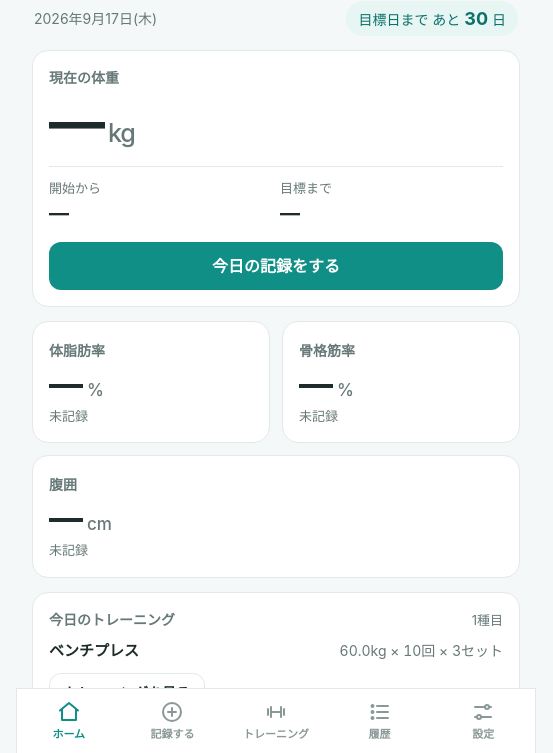
Test: App › 内容を1つも入力しないと保存できない
Step 1. Click the button "トレーニング" → click(276, 721), box [224,689,328,752]
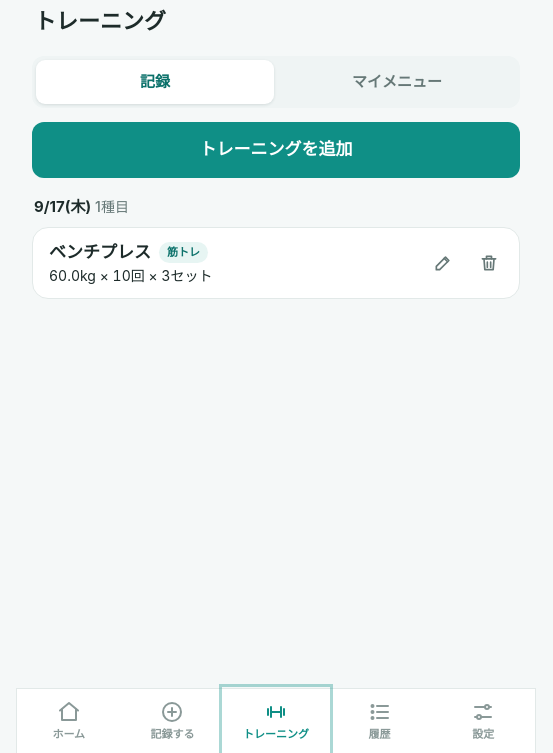
Step 2. Click the button "トレーニングを追加" → click(276, 150), box [32,122,520,178]
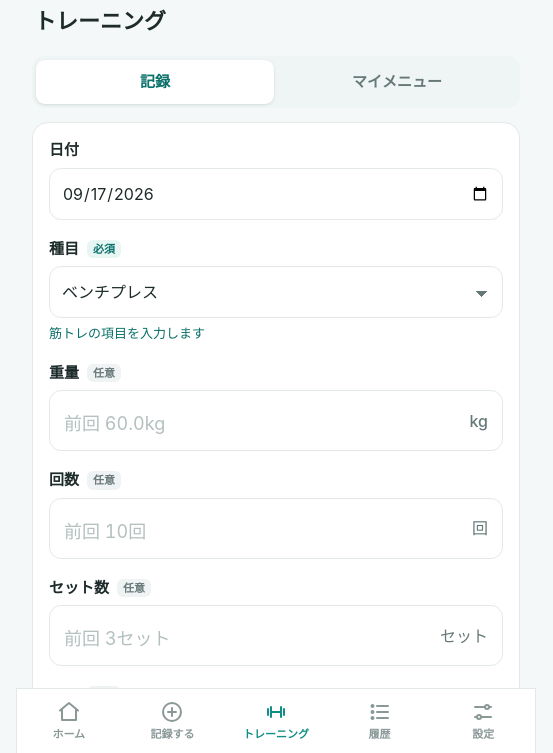
Step 3. Select "ベンチプレス" in the dropdown labelled "種目 必須" → (276, 292), box [49,266,503,318]
(page scrolled)
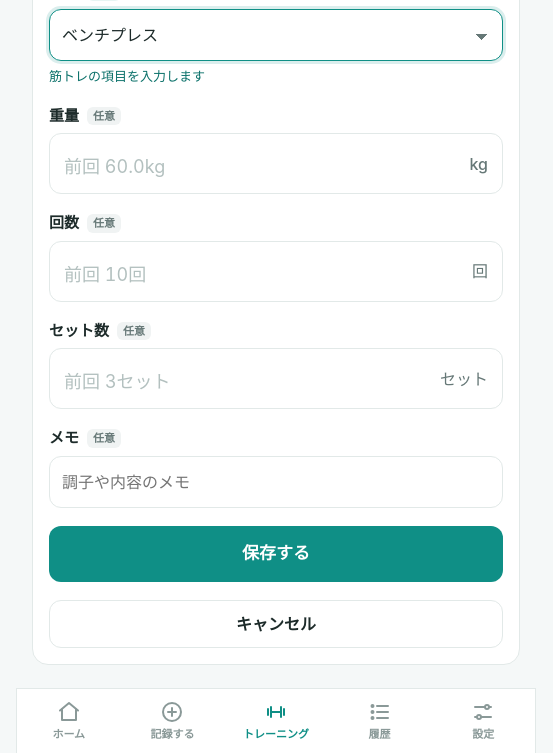
Step 4. Click the button "保存する" → click(276, 554), box [49,526,503,582]
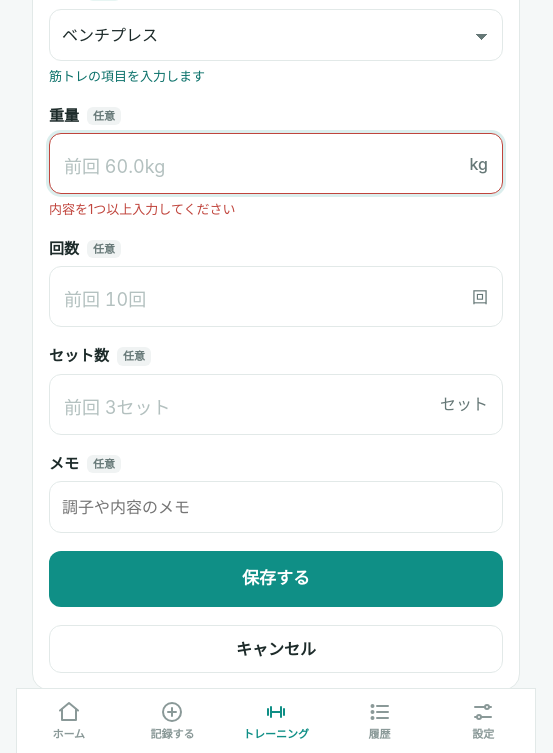
Expected: the text "内容を1つ以上入力してください" is shown, [49,201,236,217]
